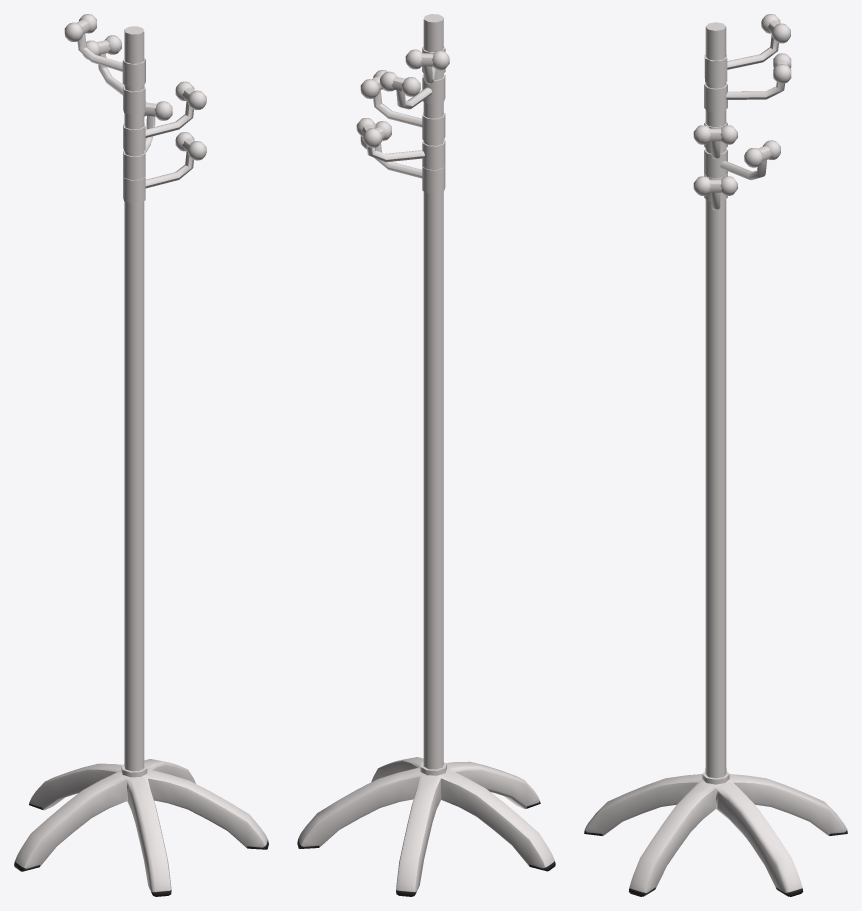
Rendered from LC_3186_hanger_LOD2.FBX.
3 renders of one model, left to right at view 1: azimuth 30°, elevation 25°; view 2: azimuth 150°, elevation 25°; view 3: azimuth 270°, elevation 25°, orthographic.
Visible parts, largest first — view 1: LC_3186_hanger_LOD2; view 2: LC_3186_hanger_LOD2; view 3: LC_3186_hanger_LOD2.
Boxes of the visible parts, bbox=[...] form: LC_3186_hanger_LOD2: bbox=[14, 14, 268, 896]; LC_3186_hanger_LOD2: bbox=[297, 14, 555, 896]; LC_3186_hanger_LOD2: bbox=[584, 14, 847, 896].
Size of the model in its own units: 48.53 by 175 by 50.84.
1 material, 1 textured.
